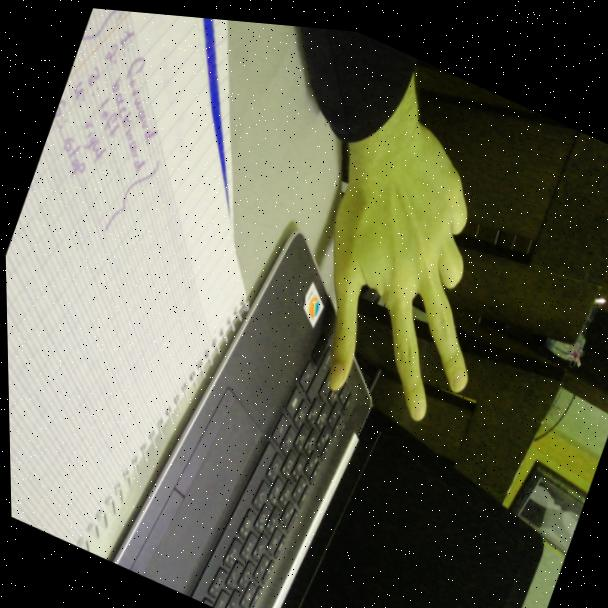three: (263, 72, 548, 457)
